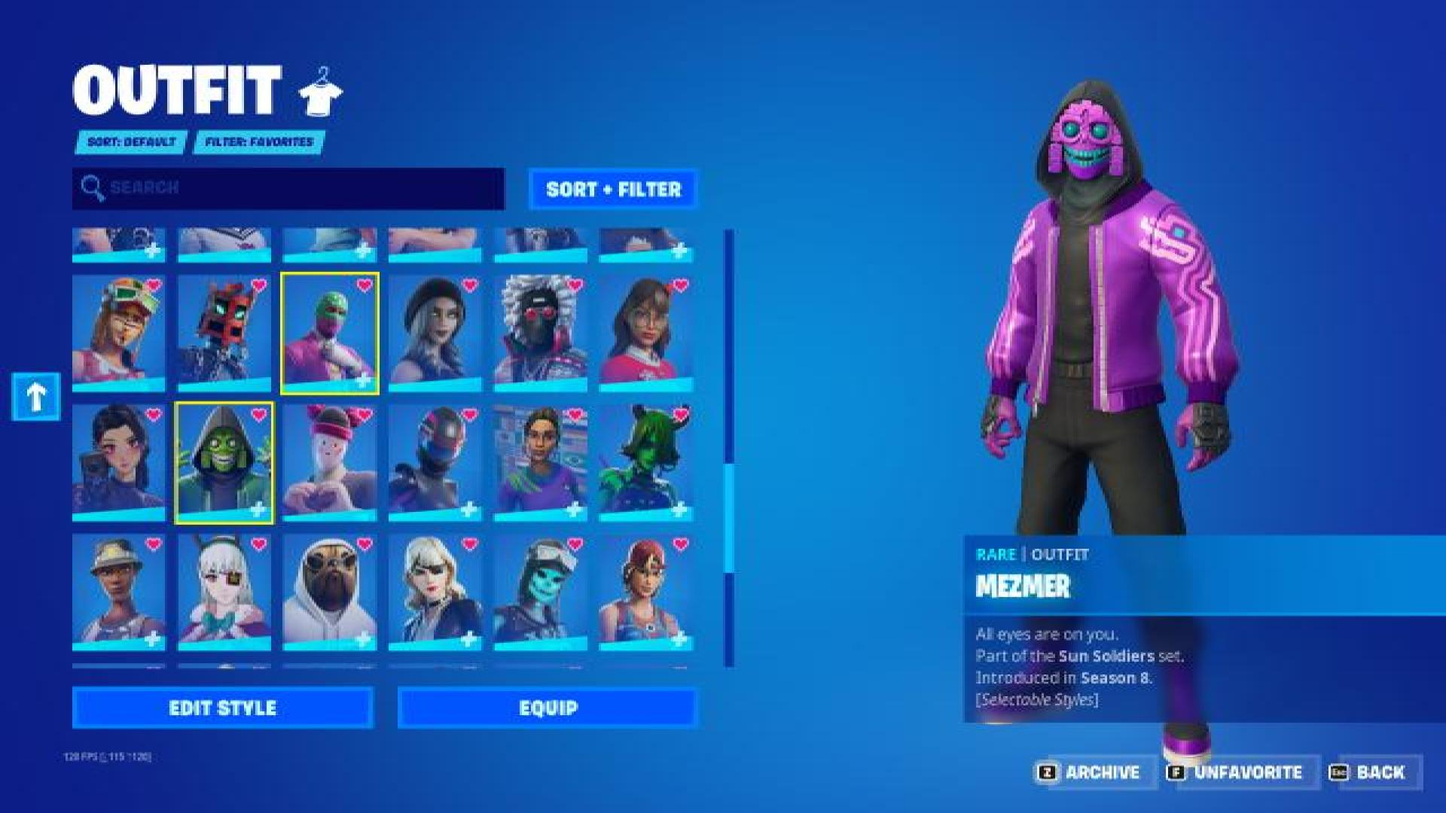player: (956, 81, 1229, 761)
